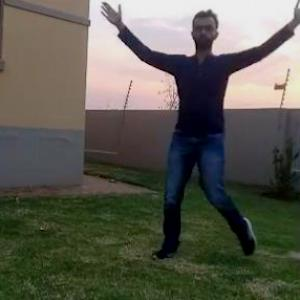takeoff: (105, 0, 299, 270)
